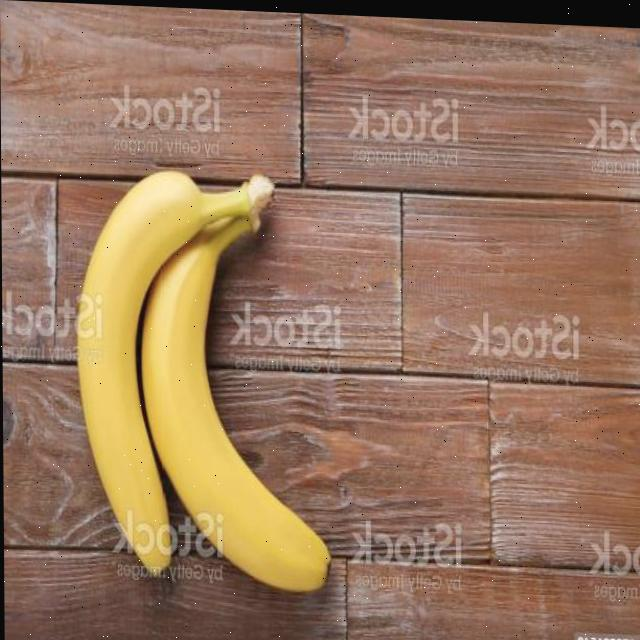banana: (70, 159, 336, 607)
